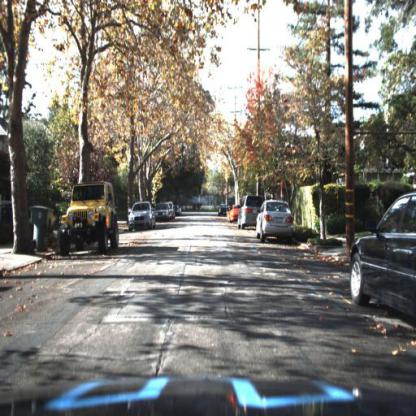car: (333, 186, 416, 326), (53, 169, 123, 265), (255, 195, 297, 249), (126, 201, 157, 233), (237, 193, 257, 233), (227, 200, 241, 229), (157, 204, 171, 223)
